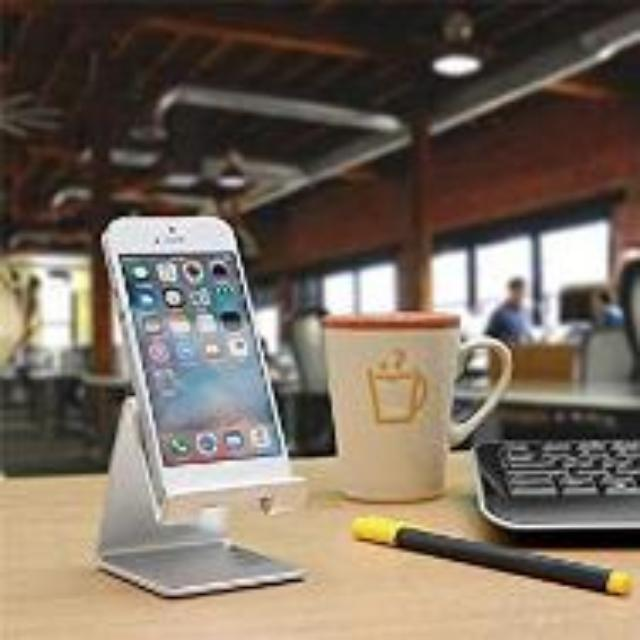phone: (90, 185, 302, 517)
